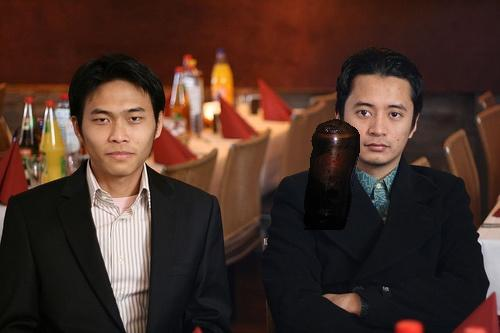tampered: (304, 120, 360, 230)
